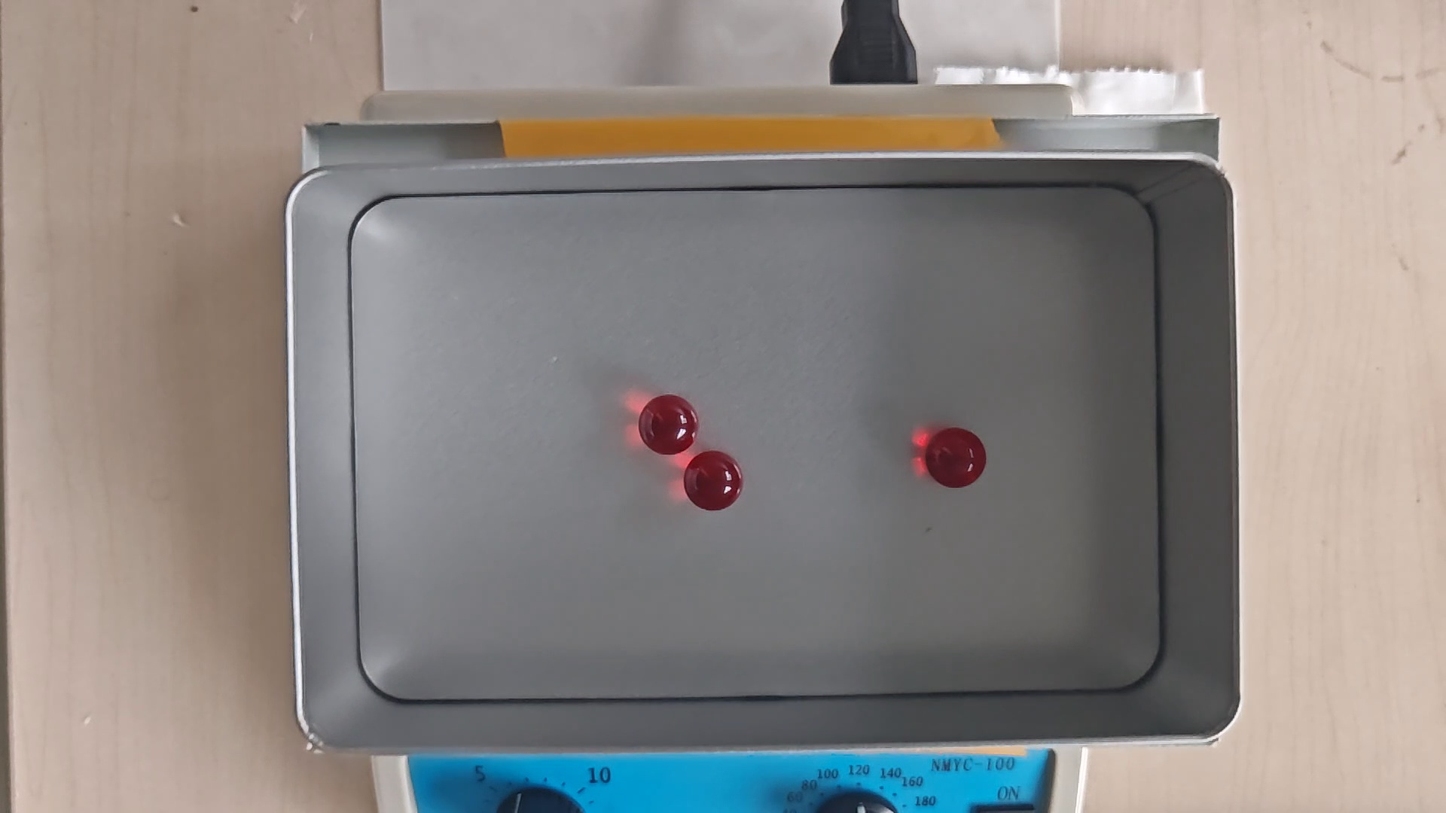ball: (927, 428, 989, 489), (683, 451, 743, 513), (640, 396, 698, 454)
container: (346, 189, 1167, 703)
